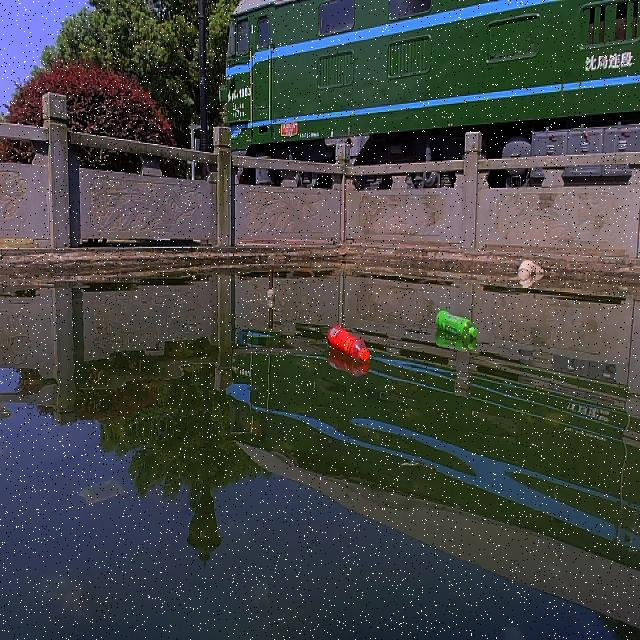bottle: (324, 323, 370, 365), (431, 307, 479, 341)
